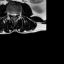CCS_normal: (13, 11, 14, 20)
LFS_normal: (16, 10, 18, 17)
LLS_normal: (14, 11, 16, 18)
RFS_normal: (9, 10, 11, 17)
RLS_normal: (11, 11, 13, 18)
